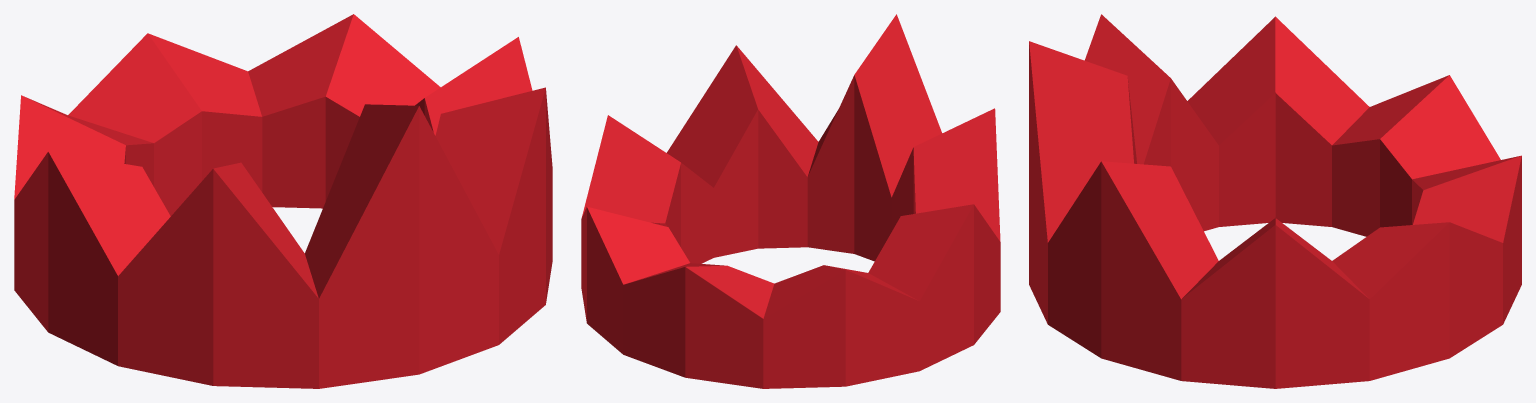
The model's file is playerCrownRed.fbx.
3 views of the same model, side by side, from view 1: azimuth 30°, elevation 25°; view 2: azimuth 150°, elevation 25°; view 3: azimuth 270°, elevation 25° (orthographic). The views are drawn at different scales.
Visible parts, largest first — view 1: PlayerCrown - Red; view 2: PlayerCrown - Red; view 3: PlayerCrown - Red.
Part boxes in pixels (left/top/right/bottom): PlayerCrown - Red: left=14, top=14, right=552, bottom=388; PlayerCrown - Red: left=581, top=14, right=1000, bottom=388; PlayerCrown - Red: left=1029, top=14, right=1521, bottom=388.
Bounding box in the file's own units: 36.08 × 36.08 × 19.7.
